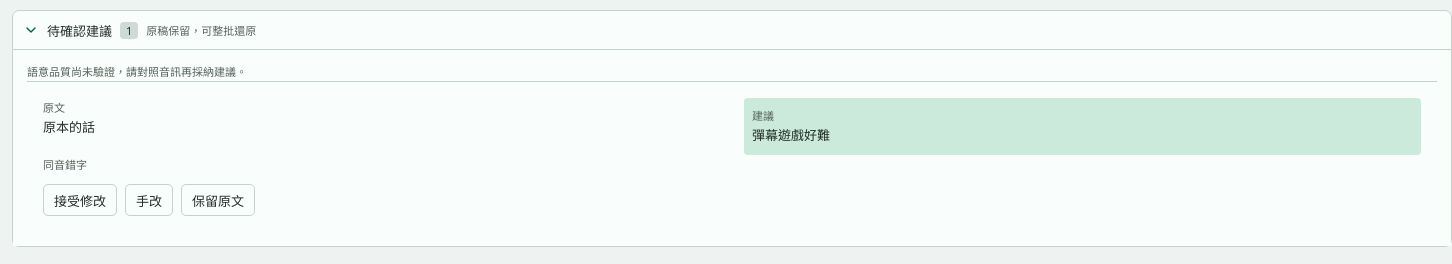
Test: shows a Chinese stale hint on the card when acceptance hits a revision conflict
Click the button "接受修改" at (80,200), box [43,184,117,216]
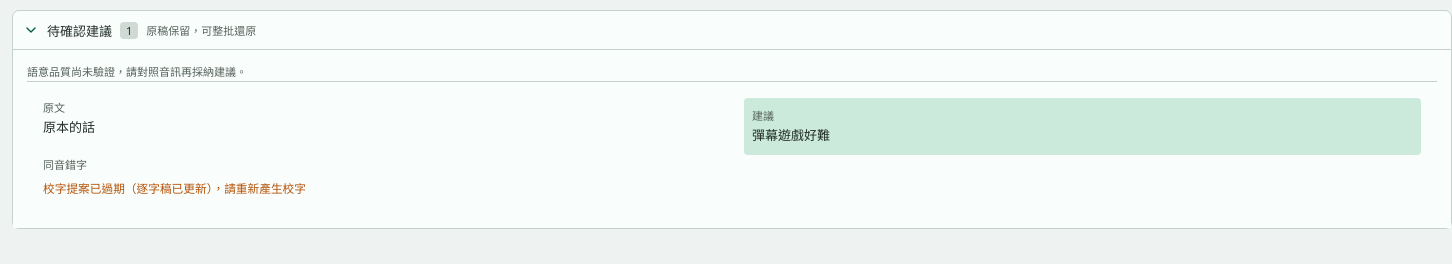
Now the text "校字提案已過期（逐字稿已更新），請重新產生校字" is shown, box [43,180,306,196]
Now the button "接受修改" is gone
